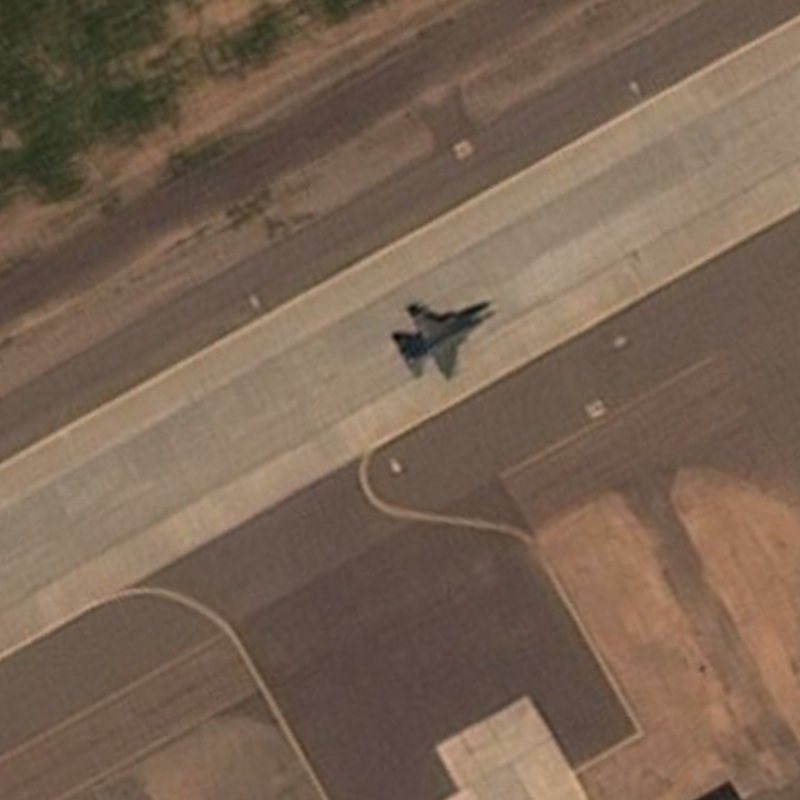A5: (392, 291, 501, 388)
